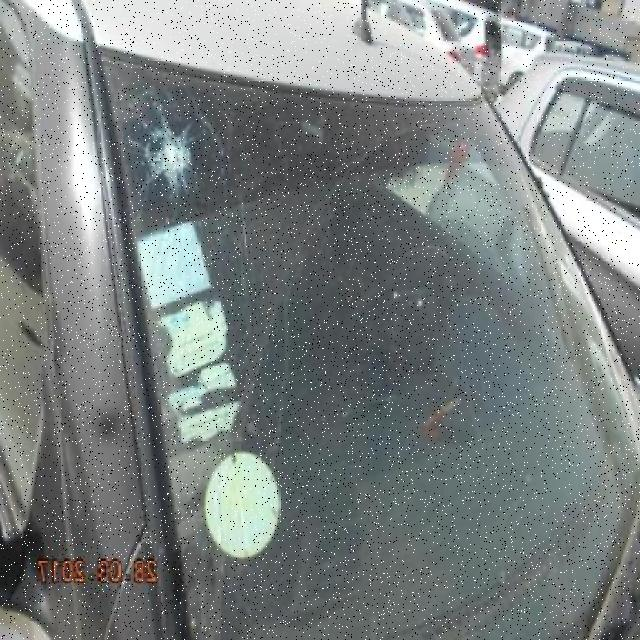damage: (141, 112, 201, 203)
